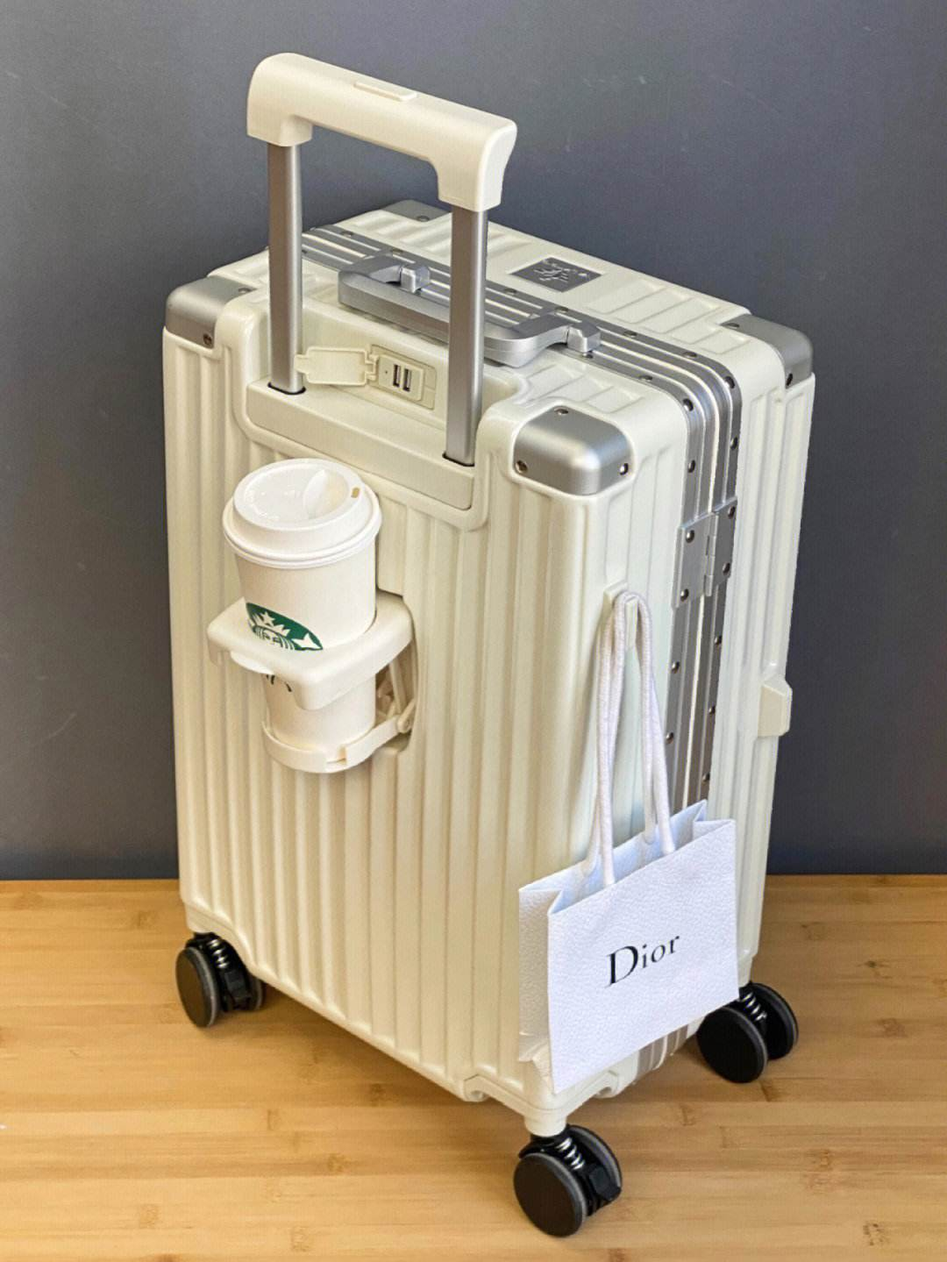box: (160, 200, 815, 1102)
handle: (338, 252, 600, 368)
wheel: (512, 1124, 623, 1237), (696, 981, 799, 1084), (174, 933, 266, 1030)
